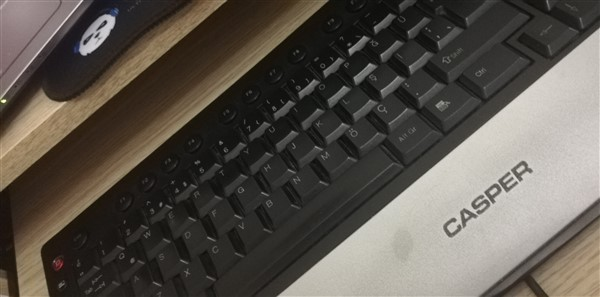klavye: (36, 1, 598, 297)
